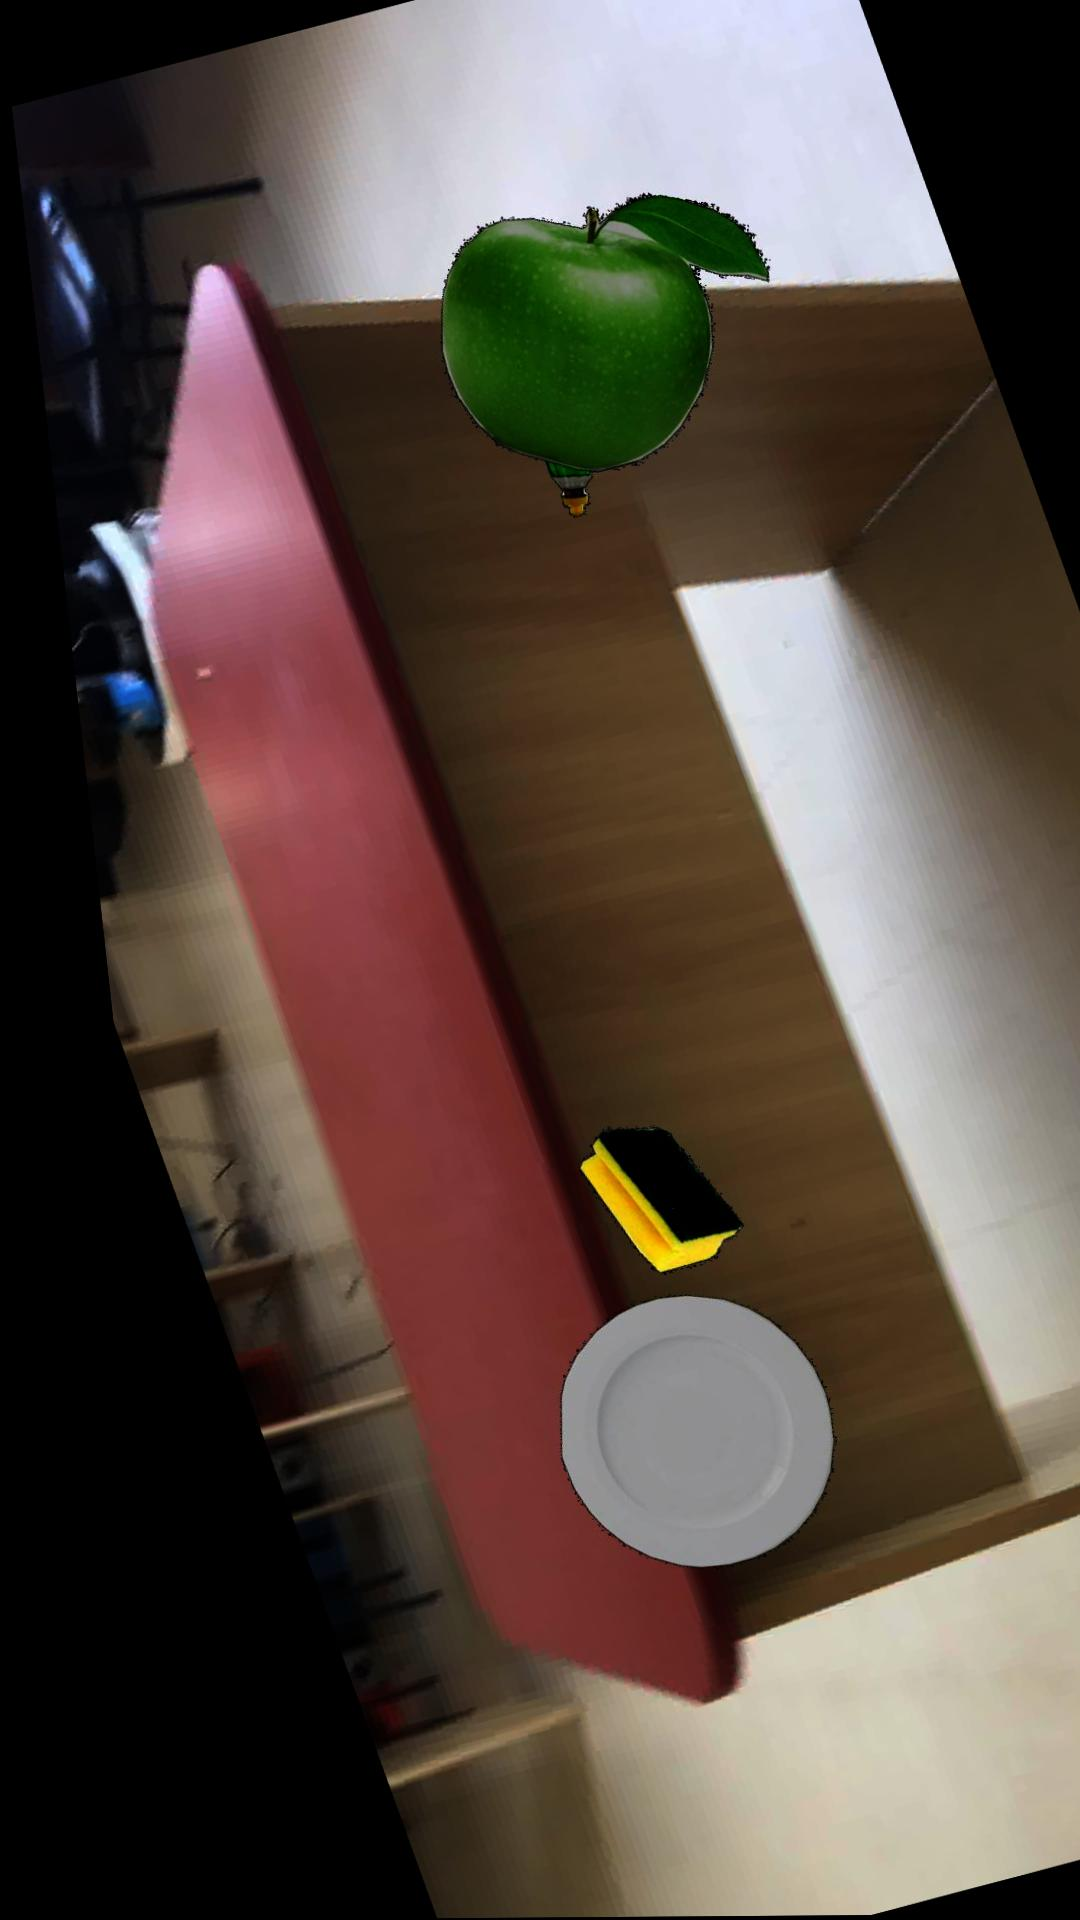cleaner: (534, 459, 582, 516)
green apple: (433, 191, 764, 471)
plate: (526, 1292, 800, 1567)
sponge: (551, 1125, 715, 1273)
